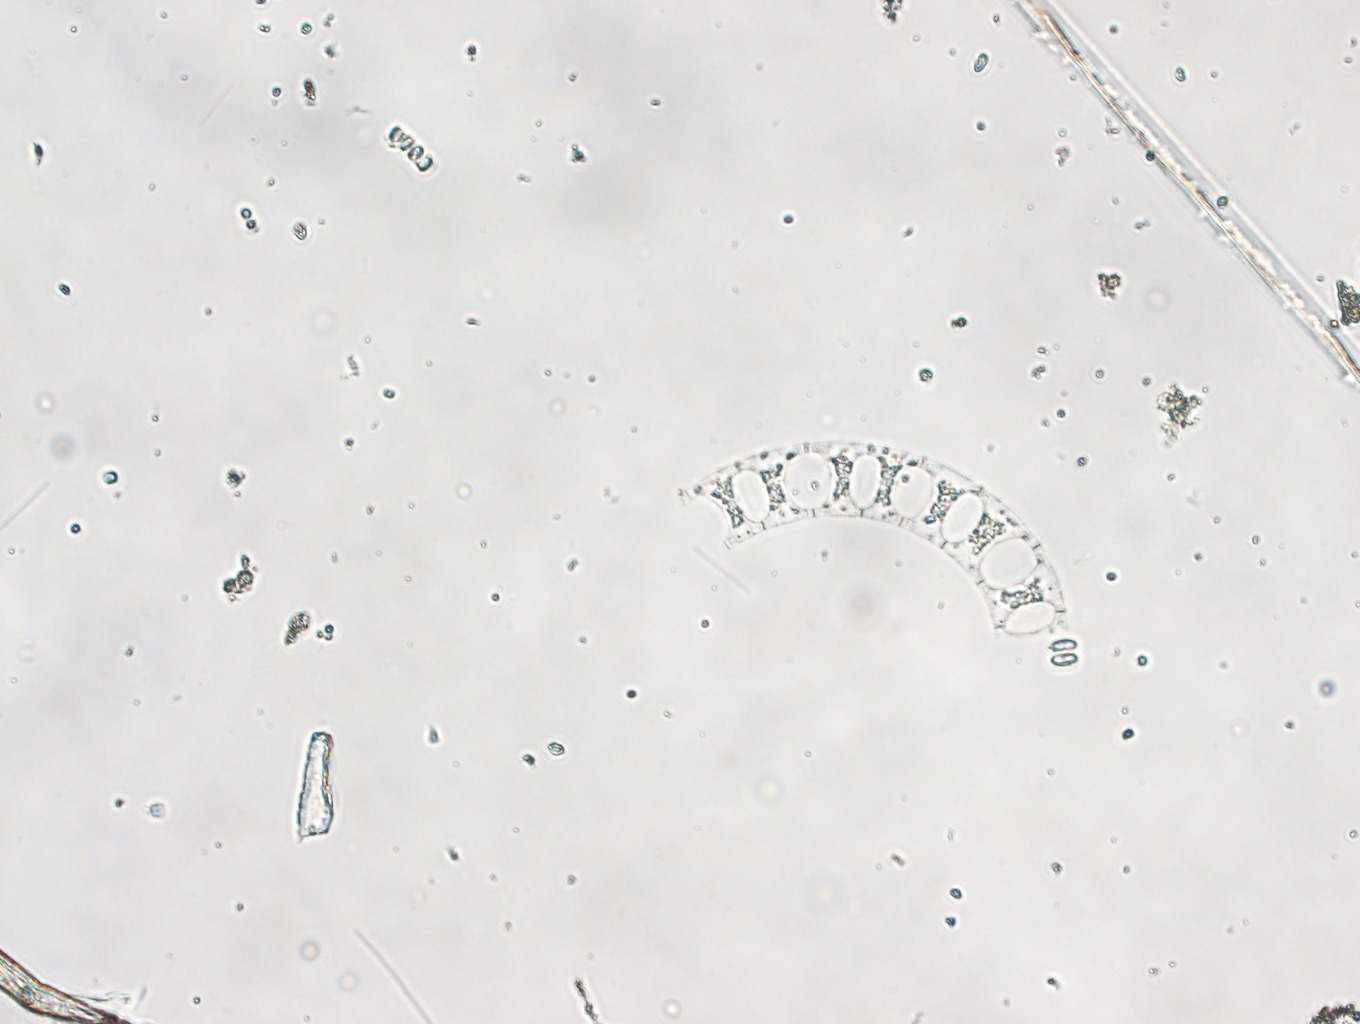eucampia: (689, 442, 1071, 637)
